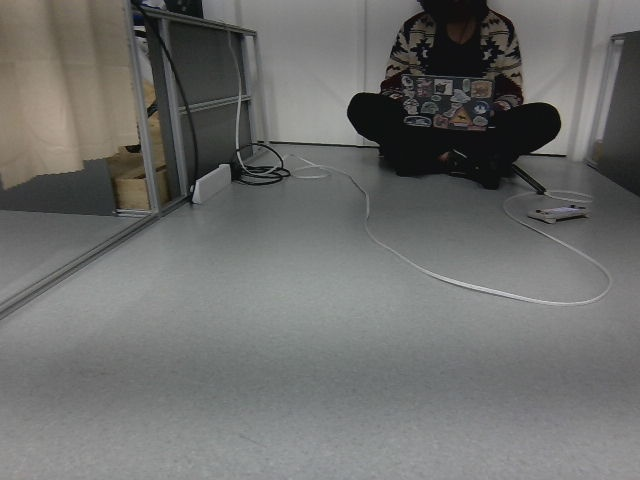curtain: (0, 0, 128, 226)
